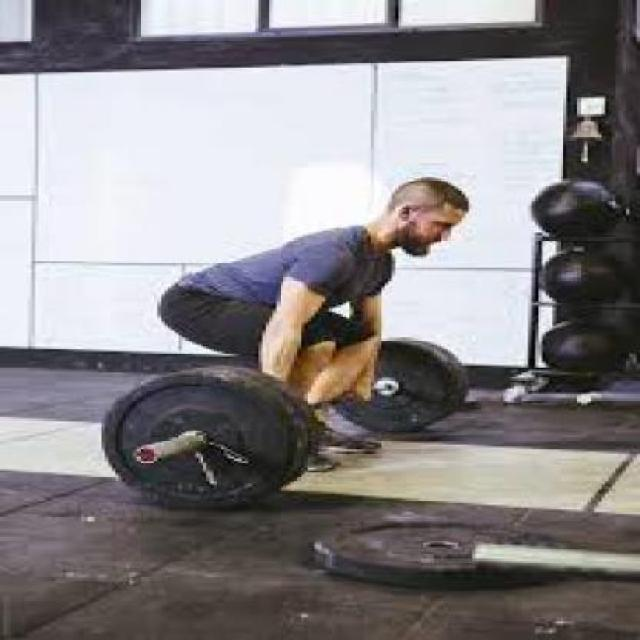barbell: (91, 358, 340, 519)
